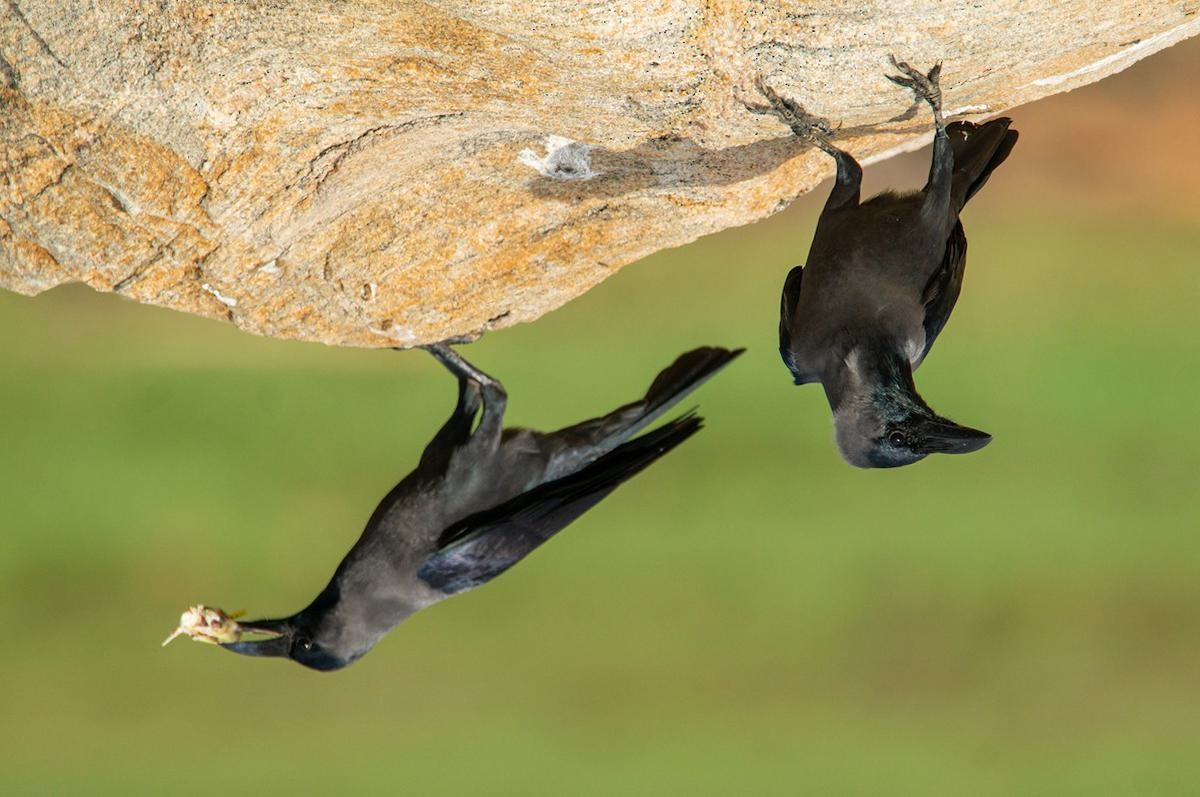crow: (167, 281, 743, 684), (740, 18, 1013, 490)
